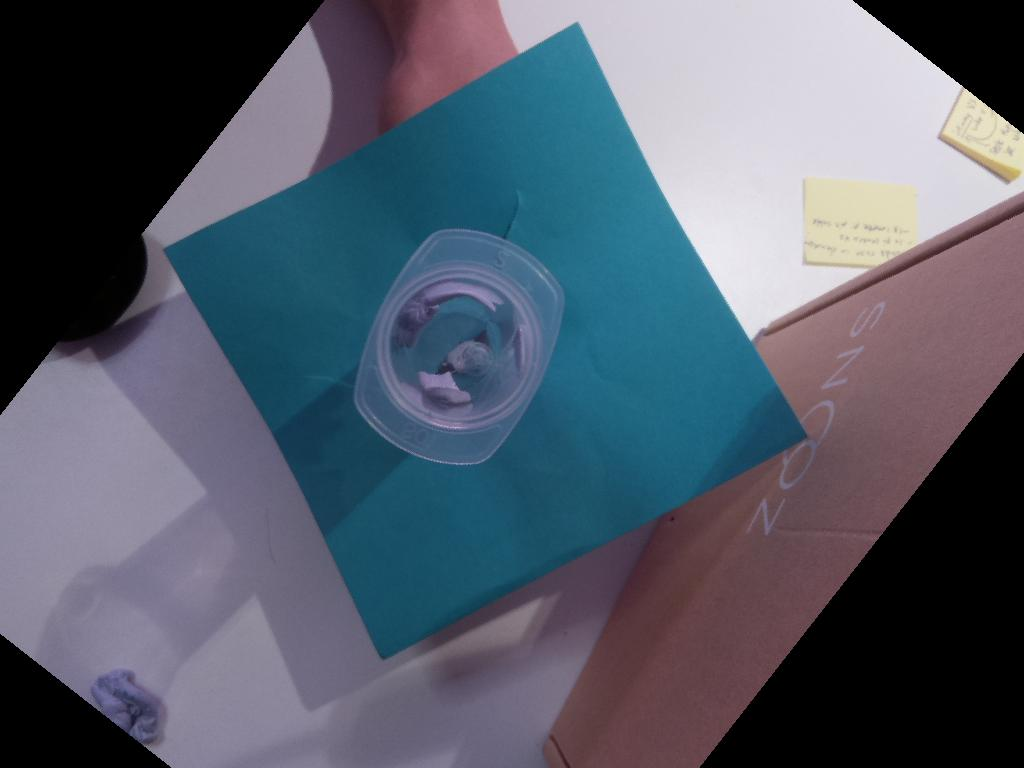dirty: (352, 225, 574, 475)
